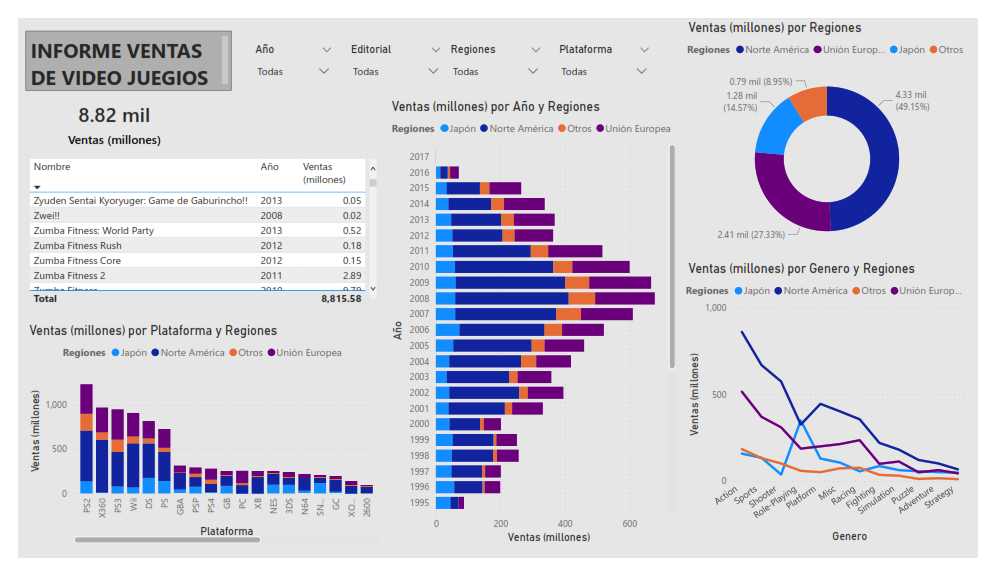

The page's visual inventory and layout, read from the dashboard file:
{"tool":"powerbi","page":{"name":"Página 1","canvas":[1280,720],"ordinal":0},"visuals":[{"type":"tableEx","fields":{"Values":["Ventas Videojuegos.Nombre","Ventas Videojuegos.Año","Sum(Ventas Videojuegos.Ventas)"]},"box":[10,148,474,206],"z":0},{"type":"barChart","fields":{"Category":["Ventas Videojuegos.Año"],"Y":["Sum(Ventas Videojuegos.Ventas)"],"Series":["Ventas Videojuegos.Regiones"]},"box":[494,148,388,558],"z":1},{"type":"donutChart","fields":{"Category":["Ventas Videojuegos.Regiones"],"Y":["Sum(Ventas Videojuegos.Ventas)"]},"box":[888.3,3.3,380,321.7],"z":2},{"type":"columnChart","fields":{"Category":["Ventas Videojuegos.Plataforma"],"Series":["Ventas Videojuegos.Regiones"],"Y":["Sum(Ventas Videojuegos.Ventas)"]},"box":[10,353.3,473.3,351.7],"z":3},{"type":"lineChart","fields":{"Series":["Ventas Videojuegos.Regiones"],"Y":["Sum(Ventas Videojuegos.Ventas)"],"Category":["Ventas Videojuegos.Genero"]},"box":[888,325,380,380],"z":4},{"type":"card","fields":{"Values":["Sum(Ventas Videojuegos.Ventas)"]},"box":[20,4,226,152],"z":5}]}

Visuals, with their boxes in screenshot pixels (x1, y1, x2, y2), scaled from the page's 1280x720 canvas onto the 996x576 screenshot:
tableEx - Ventas Videojuegos.Nombre x Ventas Videojuegos.Año: box=[8, 118, 377, 283]
barChart - Ventas Videojuegos.Año x Sum(Ventas Videojuegos.Ventas): box=[384, 118, 686, 565]
donutChart - Ventas Videojuegos.Regiones x Sum(Ventas Videojuegos.Ventas): box=[691, 3, 987, 260]
columnChart - Ventas Videojuegos.Plataforma x Ventas Videojuegos.Regiones: box=[8, 283, 376, 564]
lineChart - Ventas Videojuegos.Regiones x Sum(Ventas Videojuegos.Ventas): box=[691, 260, 987, 564]
card - Sum(Ventas Videojuegos.Ventas): box=[16, 3, 191, 125]
